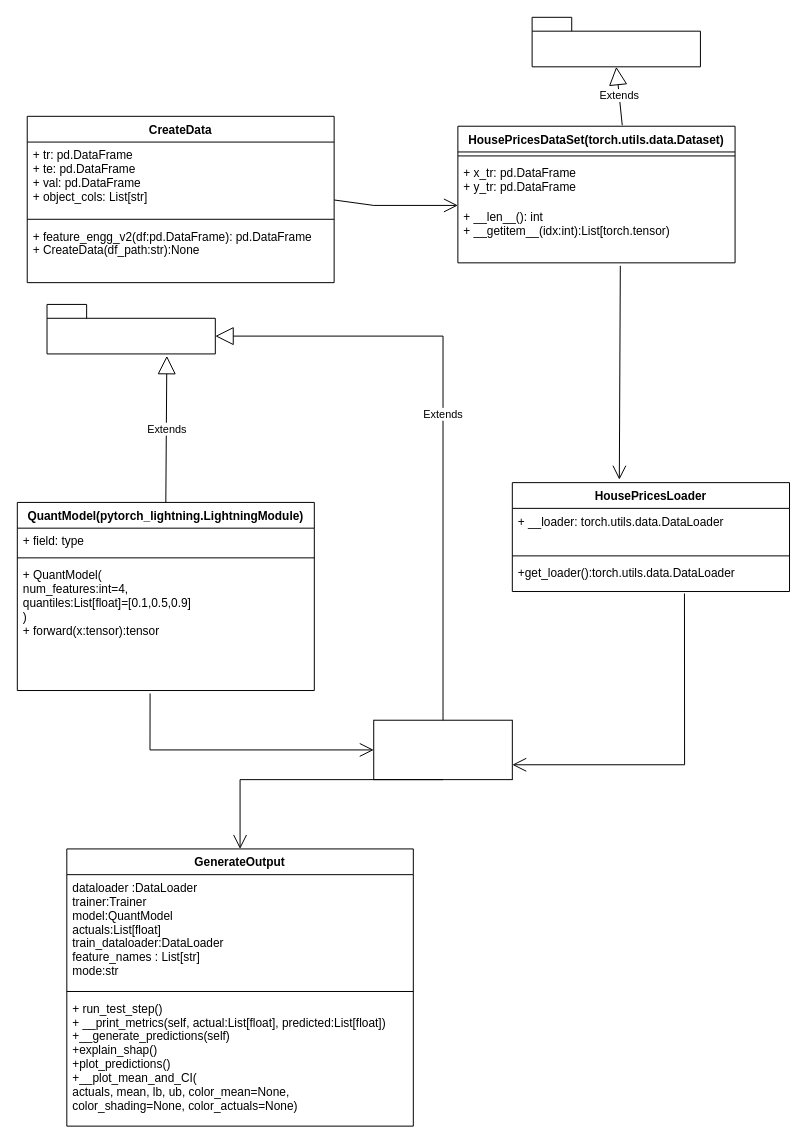
The diagram is 807 pixels wide and 1146 high, and some of its shapes have lost their labels. The centre of each missing label's shape, as x and y in pixels:
"pytorch" belongs at pixel 615 41.
"pytorch_lightning" belongs at pixel 130 328.
"Trainer" belongs at pixel 442 749.
